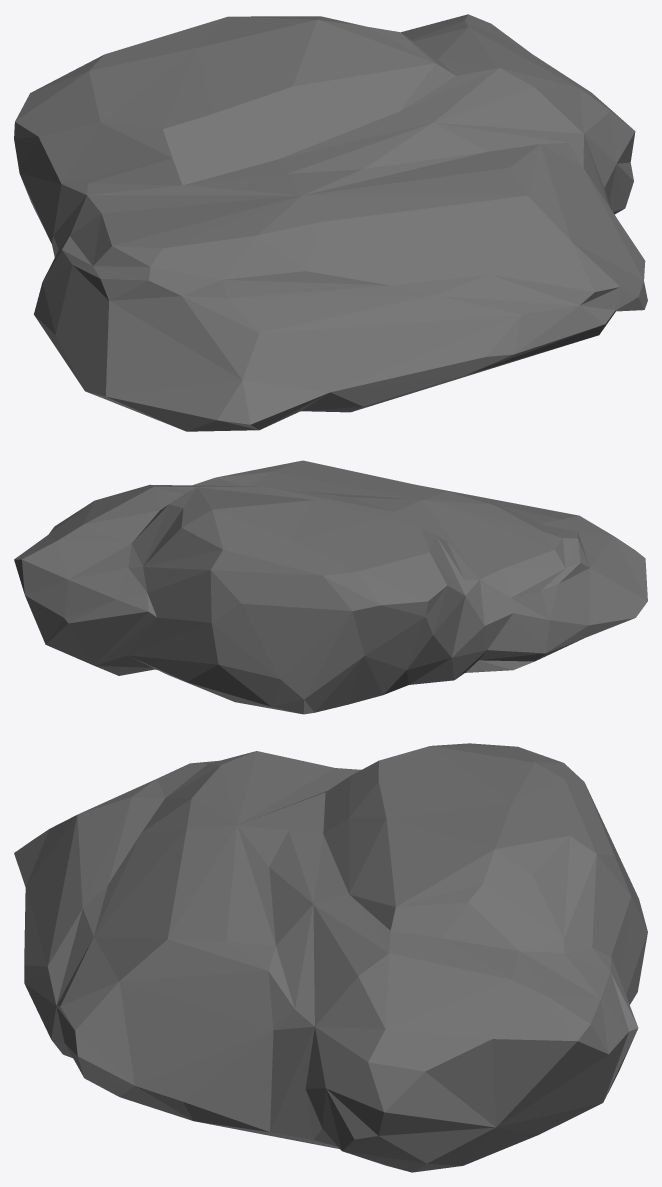
The model's file is SM_Gen_Env_Rock_07.glb.
3 views of the same model, one above another, from view 1: azimuth 30°, elevation 25°; view 2: azimuth 150°, elevation 25°; view 3: azimuth 270°, elevation 25° (orthographic). The views are drawn at different scales.
Parts seen in each view (by area): view 1: SM_Gen_Env_Rock_07; view 2: SM_Gen_Env_Rock_07; view 3: SM_Gen_Env_Rock_07.
Boxes of the visible parts, <box> form: SM_Gen_Env_Rock_07: <box>14,14,647,431</box>; SM_Gen_Env_Rock_07: <box>14,460,647,714</box>; SM_Gen_Env_Rock_07: <box>14,743,647,1172</box>.
Bounding box in the file's own units: 4.83 × 1.62 × 4.06.
Materials: 1 (1 with a texture image).
